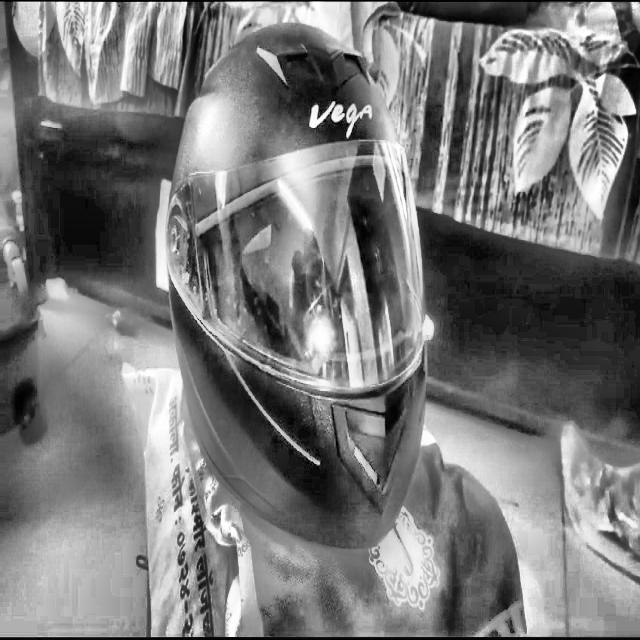Helmet: (165, 14, 447, 556)
